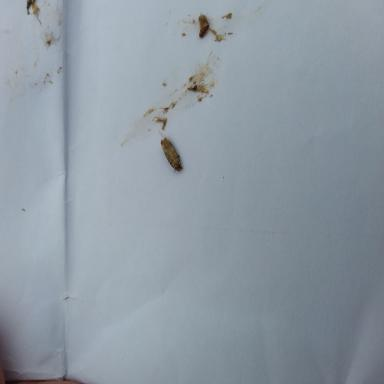pbw: (158, 131, 183, 173)
